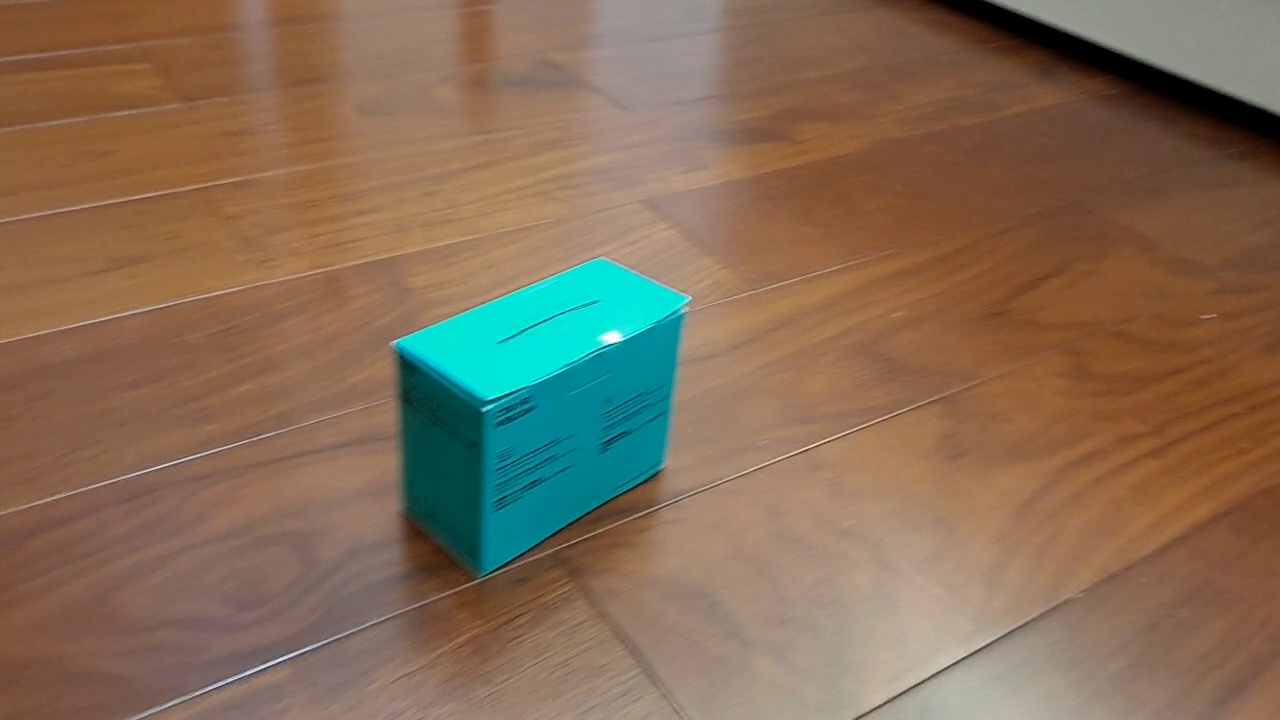webcam: (386, 254, 693, 582)
